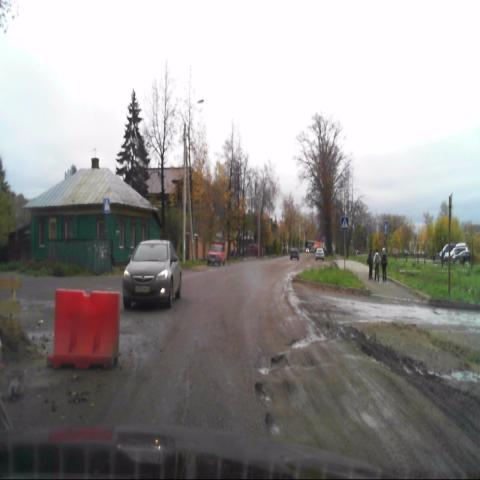5_19_1: (104, 197, 110, 212), (342, 217, 348, 229)
